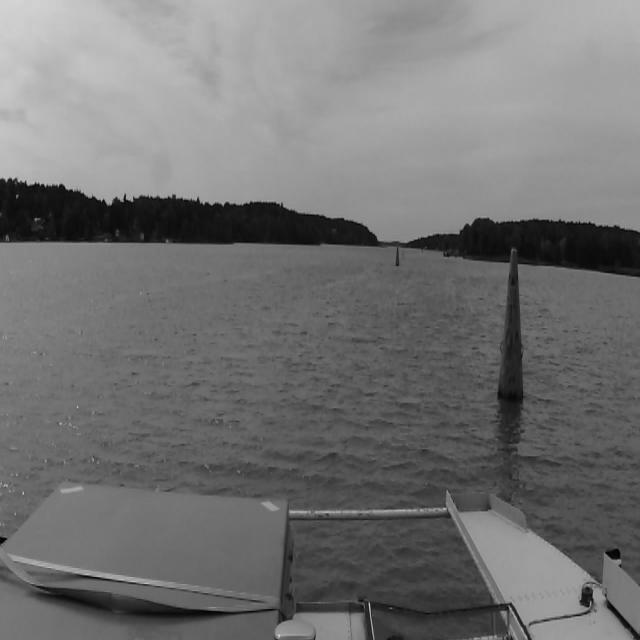buoy: (499, 250, 523, 399), (394, 244, 400, 264)
